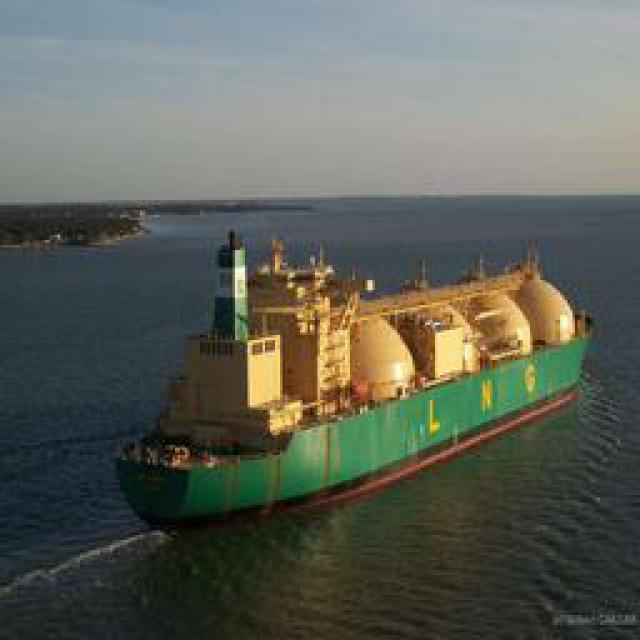Ship: (110, 232, 605, 545)
